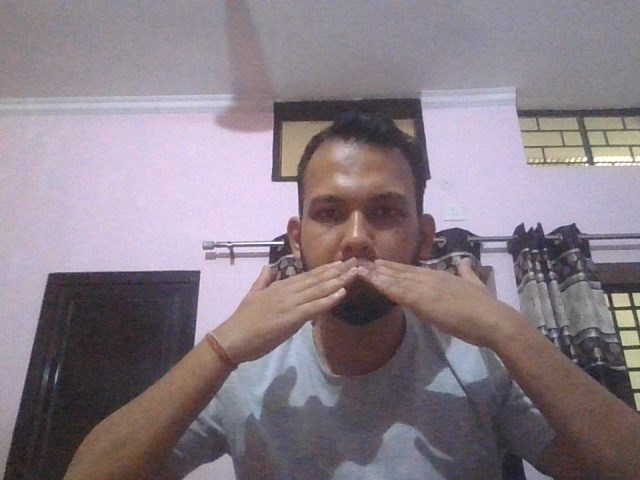thanks: (208, 256, 536, 363)
